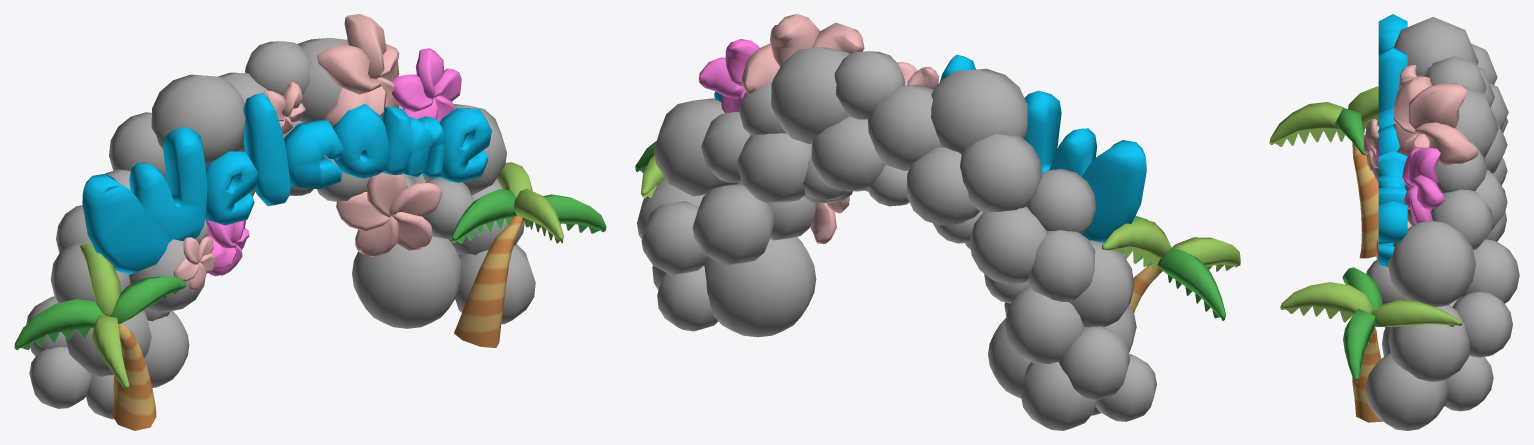
File: StartArch.fbx
3 renders of one model, left to right at view 1: azimuth 30°, elevation 25°; view 2: azimuth 150°, elevation 25°; view 3: azimuth 270°, elevation 25°, orthographic. The views are drawn at different scales.
Visible parts, largest first — view 1: polySurface11, PalmTree1, PalmTree2, polySurface52, locator2_Store_PalmtTree_23_1211_00_polySurface113, polySurface22, Store_PalmtTree_23_1211_00_polySurface113, locator4_Store_PalmtTree_23_1211_00_polySurface113, polySurface50, polySurface48, polySurface25, polySurface40 (+16 smaller); view 2: polySurface11, polySurface52, PalmTree1, polySurface22, polySurface44, polySurface40, polySurface34, polySurface31, polySurface42, polySurface21, polySurface18, polySurface30 (+26 smaller); view 3: PalmTree2, polySurface31, polySurface11, PalmTree1, Store_PalmtTree_23_1211_00_polySurface113, polySurface48, polySurface46, polySurface22, polySurface47, locator4_Store_PalmtTree_23_1211_00_polySurface113, polySurface34, polySurface45 (+13 smaller).
Boxes of the visible parts, x1,y1,x2,y2 form: polySurface11: (82,93,491,274); PalmTree1: (14,243,186,430); PalmTree2: (451,162,606,347); polySurface52: (352,236,461,328); locator2_Store_PalmtTree_23_1211_00_polySurface113: (336,172,442,257); polySurface22: (151,74,245,167); Store_PalmtTree_23_1211_00_polySurface113: (317,14,399,126); locator4_Store_PalmtTree_23_1211_00_polySurface113: (391,48,461,122); polySurface50: (29,347,91,408); polySurface48: (455,244,535,324); polySurface25: (245,41,311,94); polySurface40: (109,112,166,181); polySurface11: (714,54,1146,242); polySurface52: (704,237,816,337); PalmTree1: (1102,216,1240,320); polySurface22: (931,68,1027,153); polySurface44: (771,47,849,143); polySurface40: (960,134,1041,212); polySurface34: (692,184,774,265); polySurface31: (654,98,737,196); polySurface42: (868,84,941,170); polySurface21: (970,206,1046,284); polySurface18: (1005,286,1084,364); polySurface30: (736,133,811,202); PalmTree2: (1280,267,1462,422); polySurface31: (1388,221,1475,306); polySurface11: (1378,14,1407,267); PalmTree1: (1269,86,1378,258); Store_PalmtTree_23_1211_00_polySurface113: (1393,75,1477,166); polySurface48: (1365,352,1447,430); polySurface46: (1388,305,1470,381); polySurface22: (1394,17,1478,76); polySurface47: (1452,291,1512,357); locator4_Store_PalmtTree_23_1211_00_polySurface113: (1402,147,1444,223); polySurface34: (1456,239,1519,303); polySurface45: (1431,189,1493,250).
Size of the model in its own units: 18.47 by 9.85 by 7.53.
